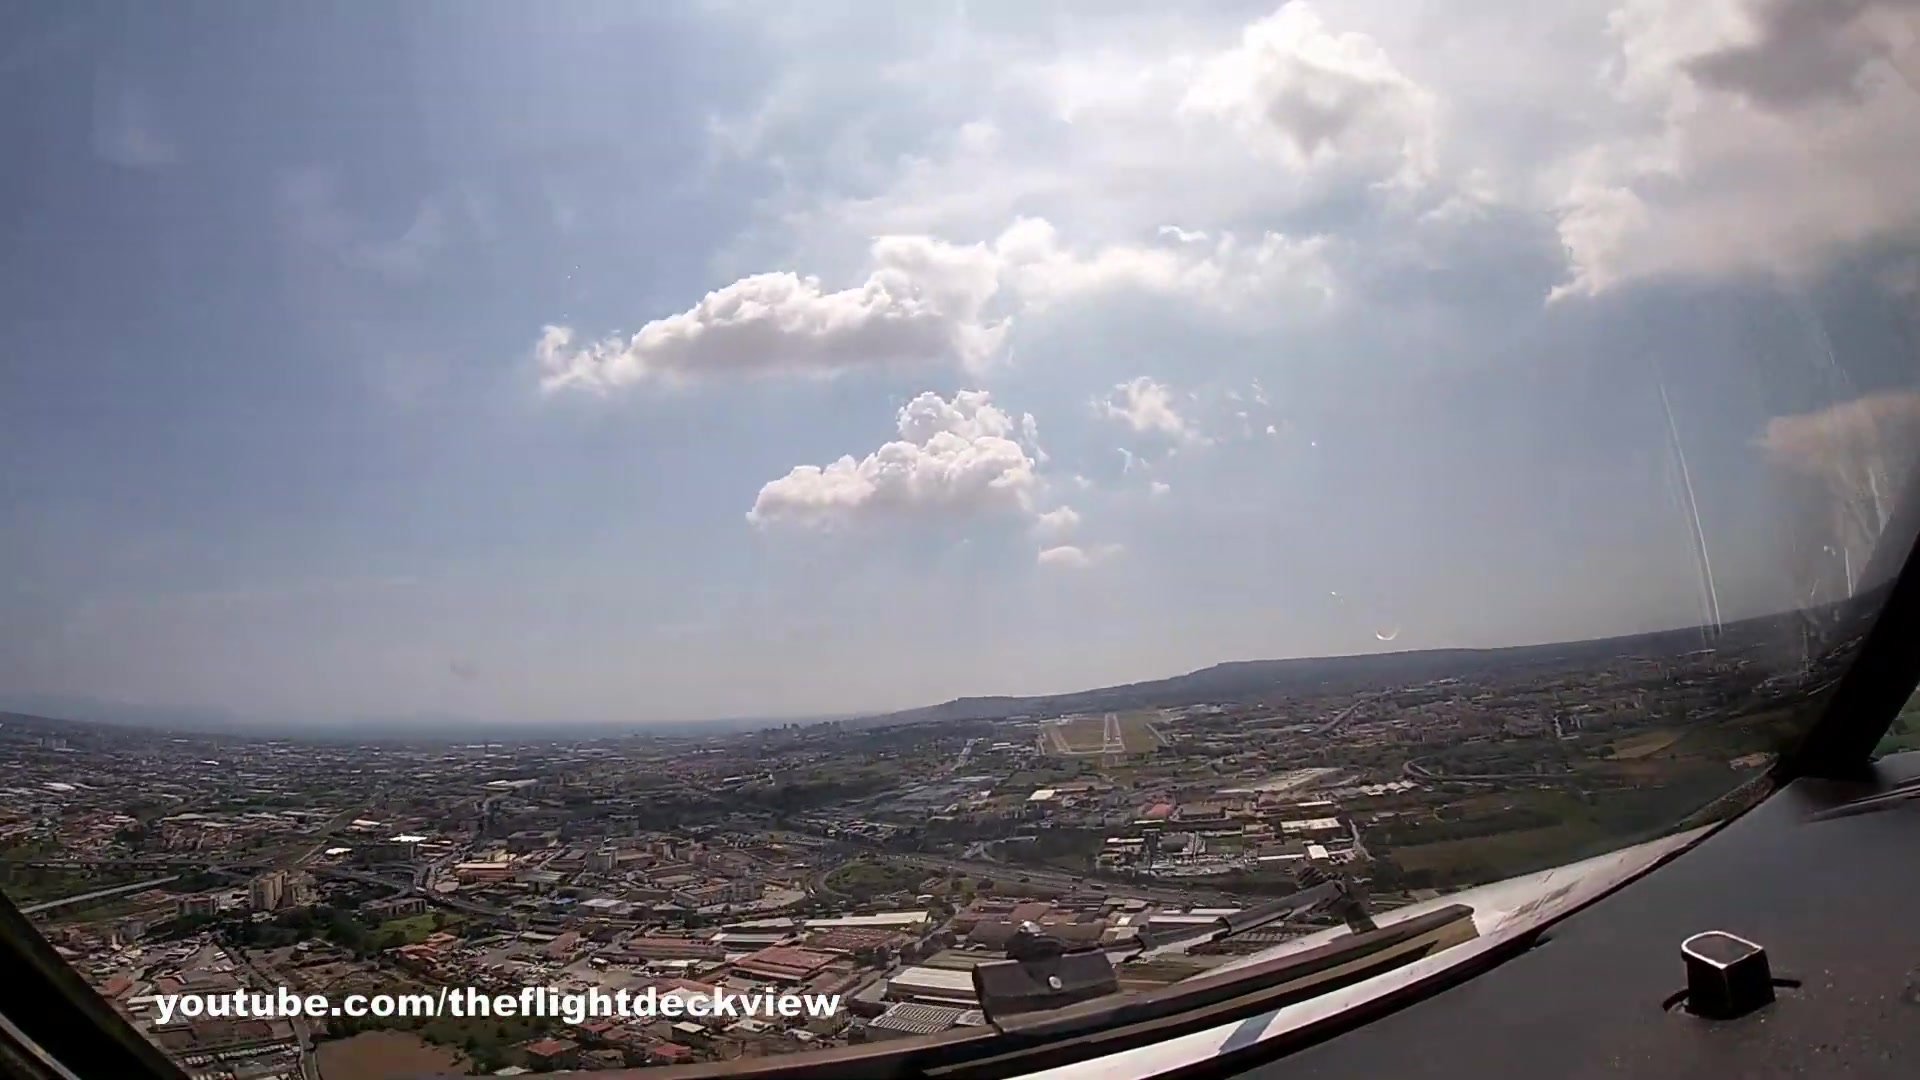runway: (1098, 712, 1124, 753)
